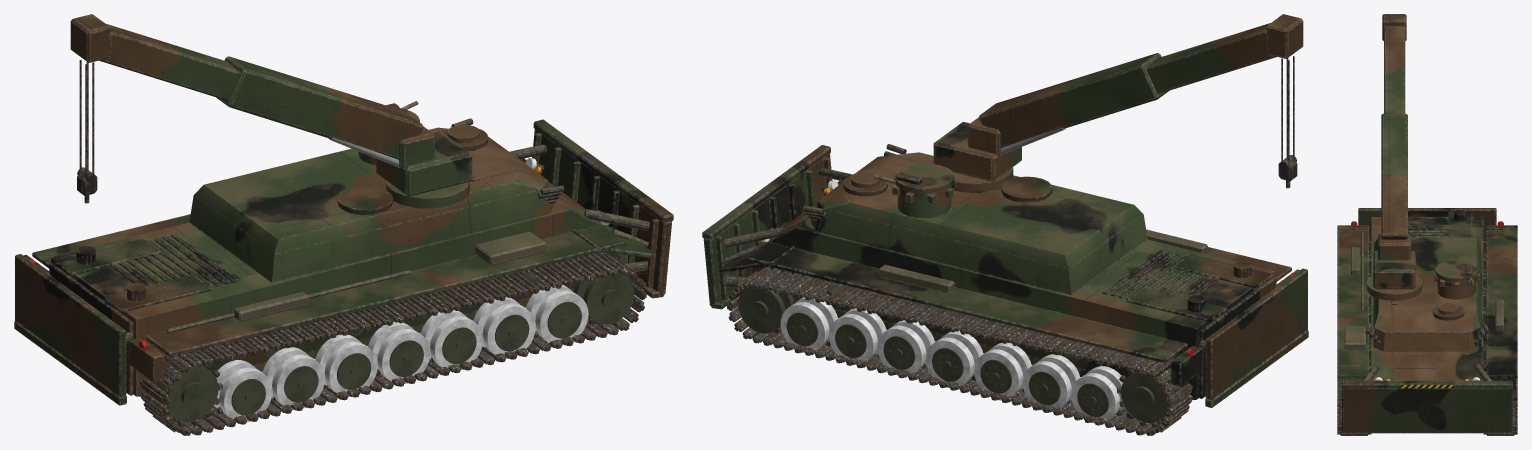
File: bergepanzer2.glb
3 renders of one model, left to right at view 1: azimuth 30°, elevation 25°; view 2: azimuth 150°, elevation 25°; view 3: azimuth 270°, elevation 25°, orthographic. The views are drawn at different scales.
Parts seen in each view (by area): view 1: hull, work, tracks, tyres, hubs, track_horns; view 2: hull, work, tracks, tyres, hubs, track_horns; view 3: hull, work, track_horns, tracks.
Boxes of the visible parts, x1=… form: hull: x1=23, y1=101, x2=655, y2=396; work: x1=14, y1=14, x2=673, y2=405; tracks: x1=141, y1=252, x2=645, y2=435; tyres: x1=213, y1=284, x2=588, y2=422; hubs: x1=157, y1=272, x2=634, y2=421; track_horns: x1=140, y1=252, x2=646, y2=435; hull: x1=718, y1=144, x2=1299, y2=399; work: x1=702, y1=14, x2=1308, y2=407; tracks: x1=727, y1=267, x2=1192, y2=435; tyres: x1=780, y1=296, x2=1125, y2=423; hubs: x1=738, y1=286, x2=1176, y2=422; track_horns: x1=727, y1=267, x2=1276, y2=435; hull: x1=1337, y1=210, x2=1517, y2=400; work: x1=1342, y1=14, x2=1512, y2=433; track_horns: x1=1337, y1=251, x2=1517, y2=434; tracks: x1=1339, y1=252, x2=1515, y2=435.
Bounding box in the file's own units: 7.91 × 5.46 × 3.4.
7 materials, 7 textured.
